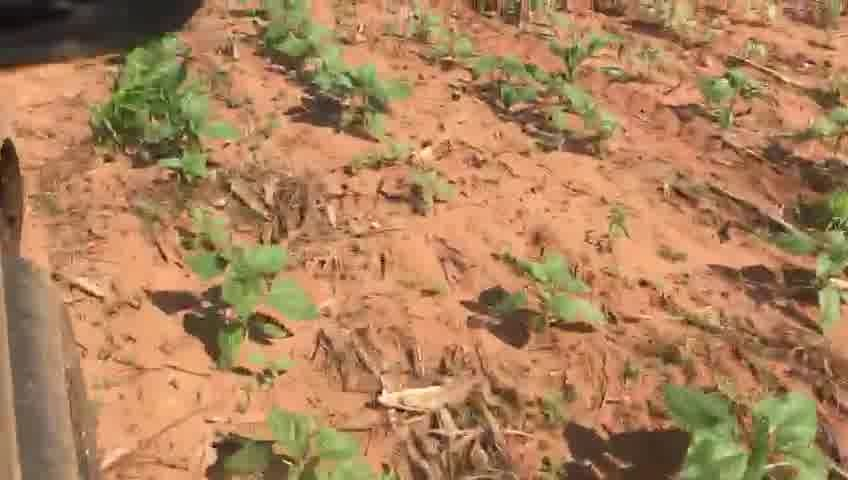sunflower: (652, 378, 830, 480), (204, 239, 306, 359), (223, 405, 378, 473), (145, 90, 237, 182), (518, 251, 604, 334), (341, 63, 406, 133), (562, 81, 620, 150), (518, 54, 575, 123), (293, 34, 347, 86), (403, 170, 463, 213), (272, 15, 324, 62)
